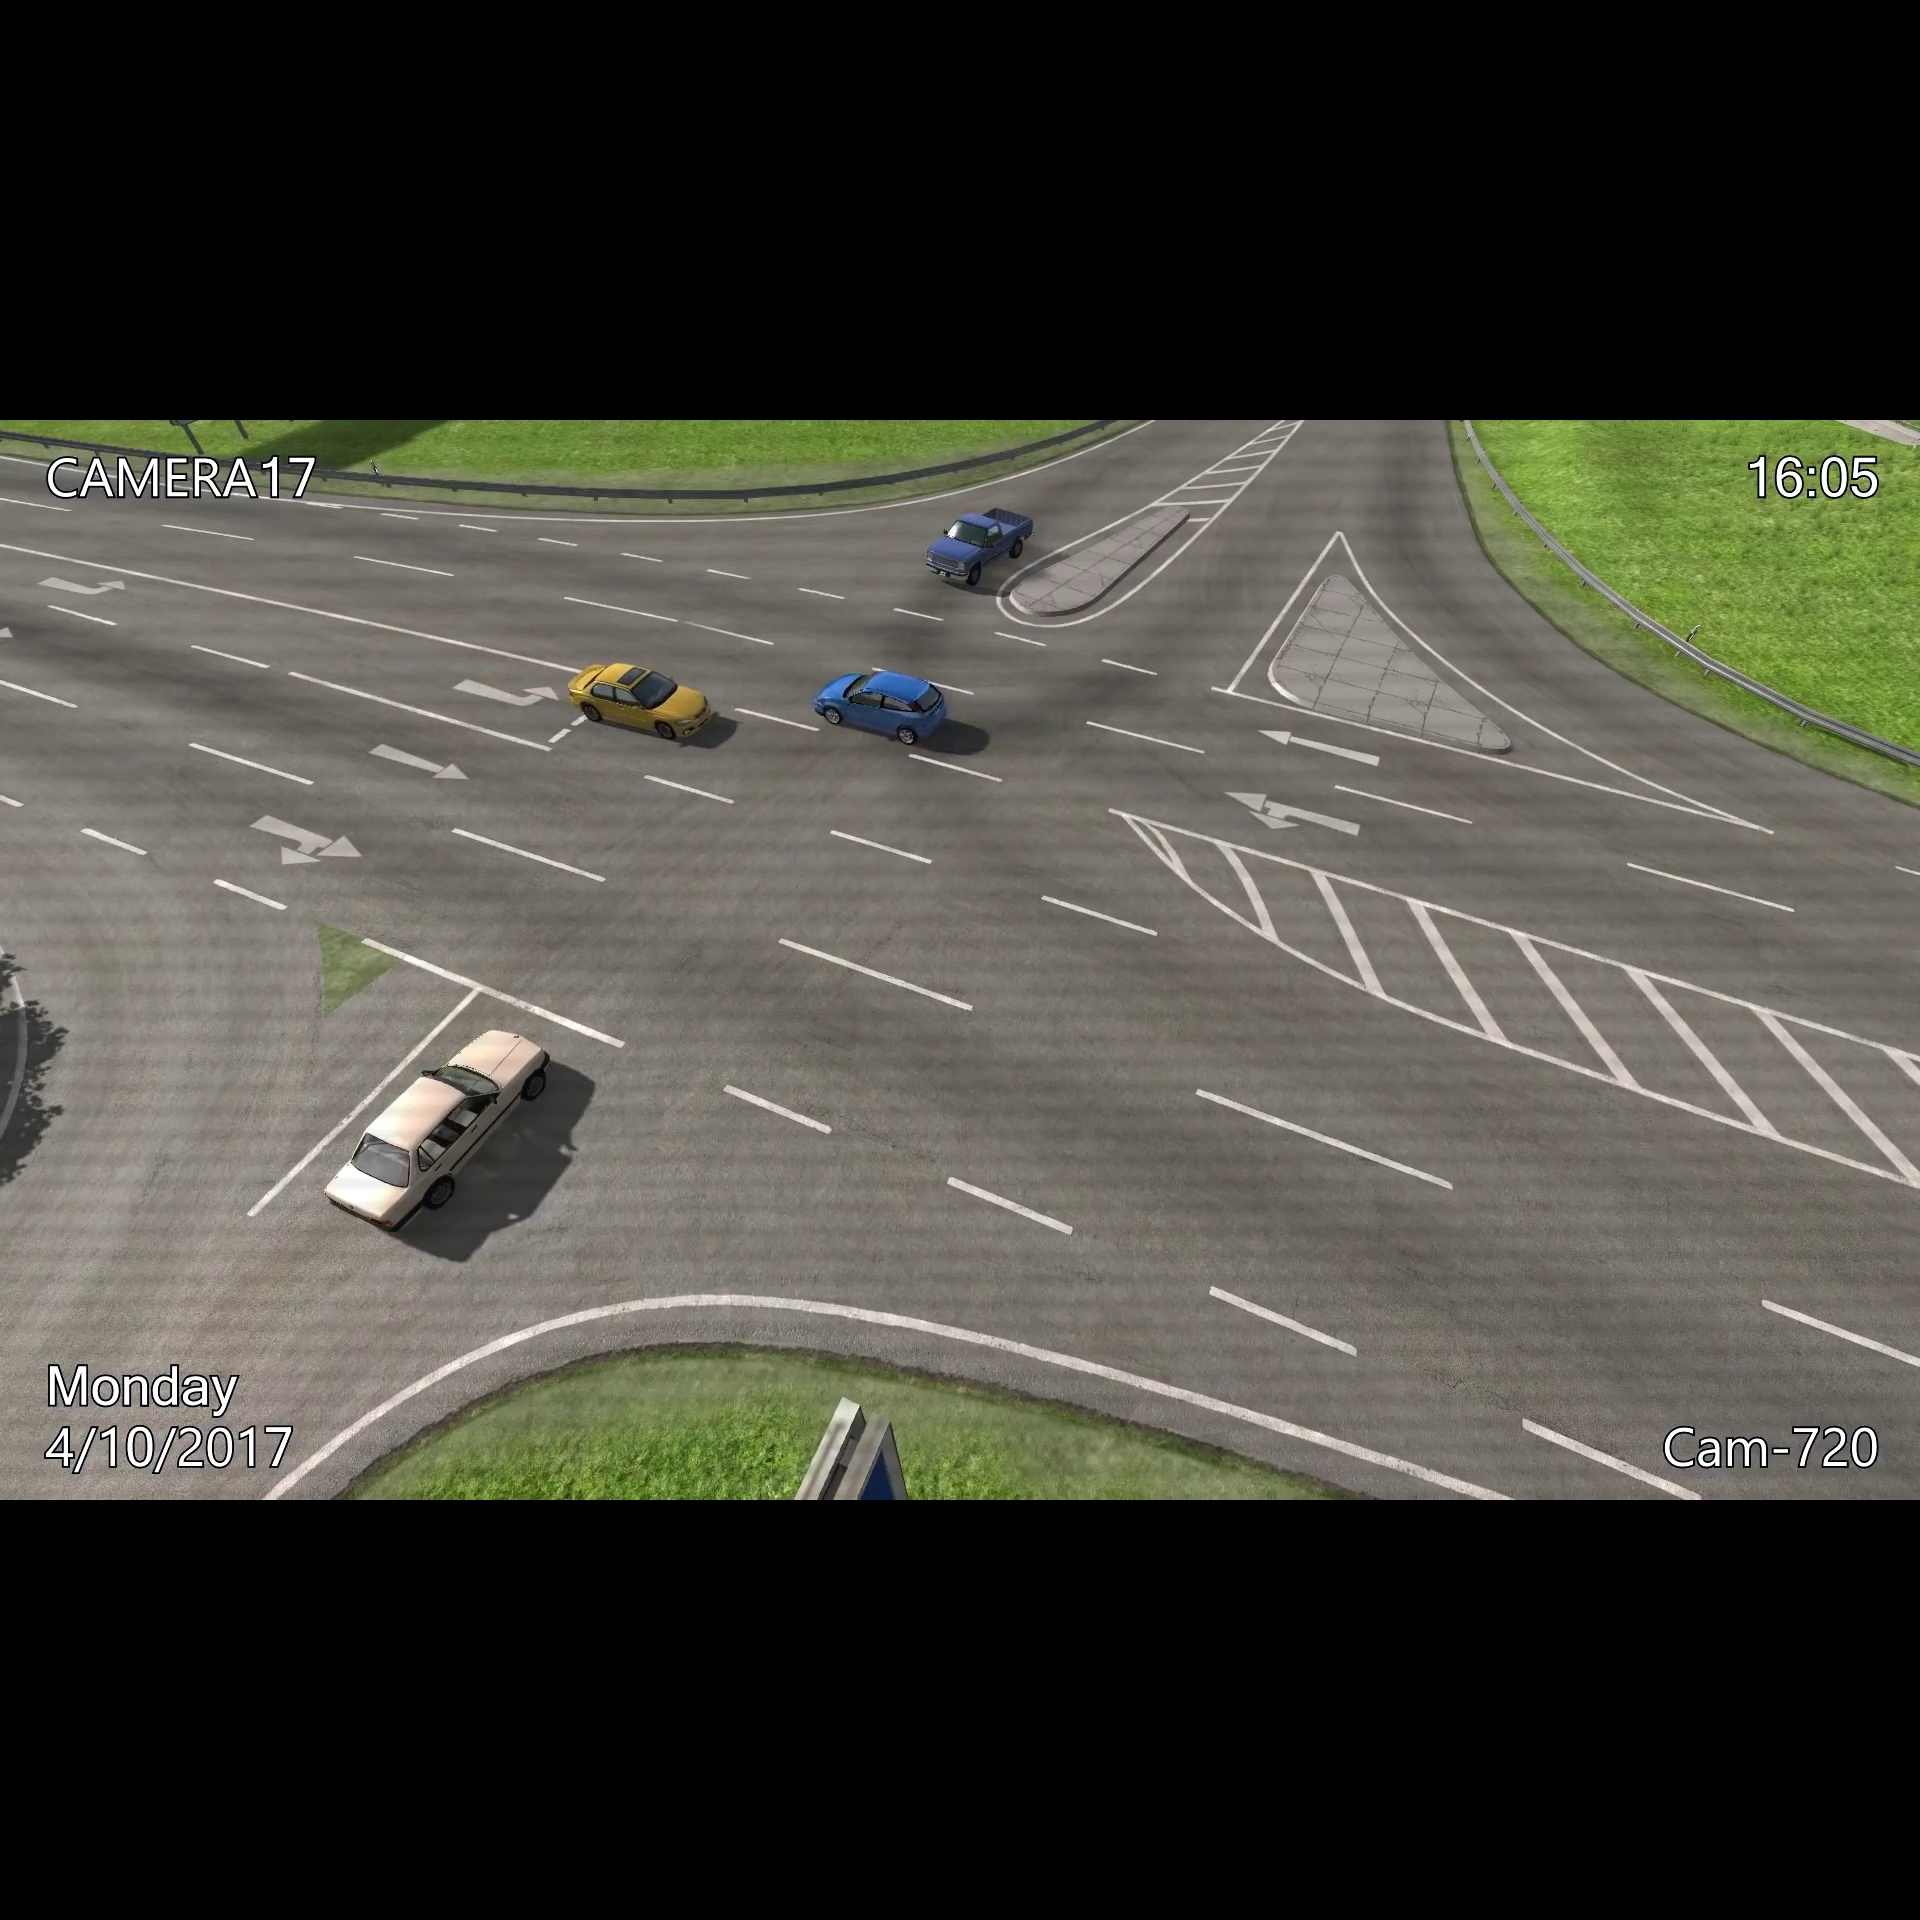vehicle: (318, 1020, 559, 1241), (564, 654, 716, 745), (807, 666, 953, 747), (920, 501, 1041, 587)
